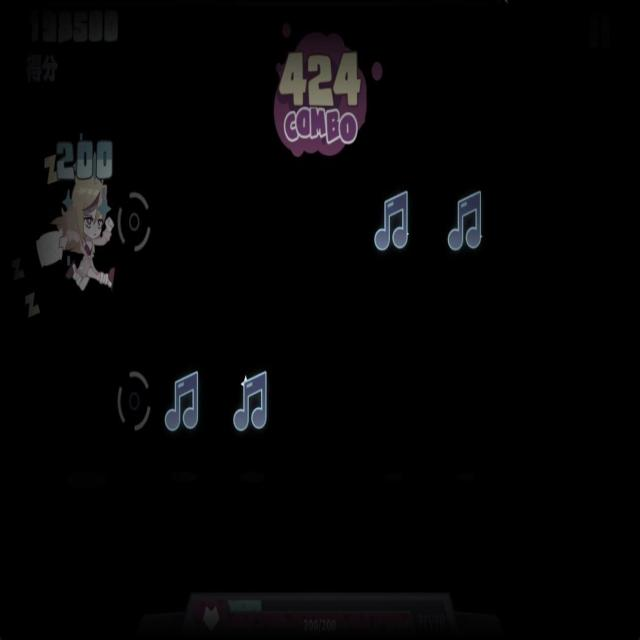Music note: (374, 187, 418, 250), (449, 183, 484, 257), (235, 364, 272, 432), (167, 366, 202, 435)
